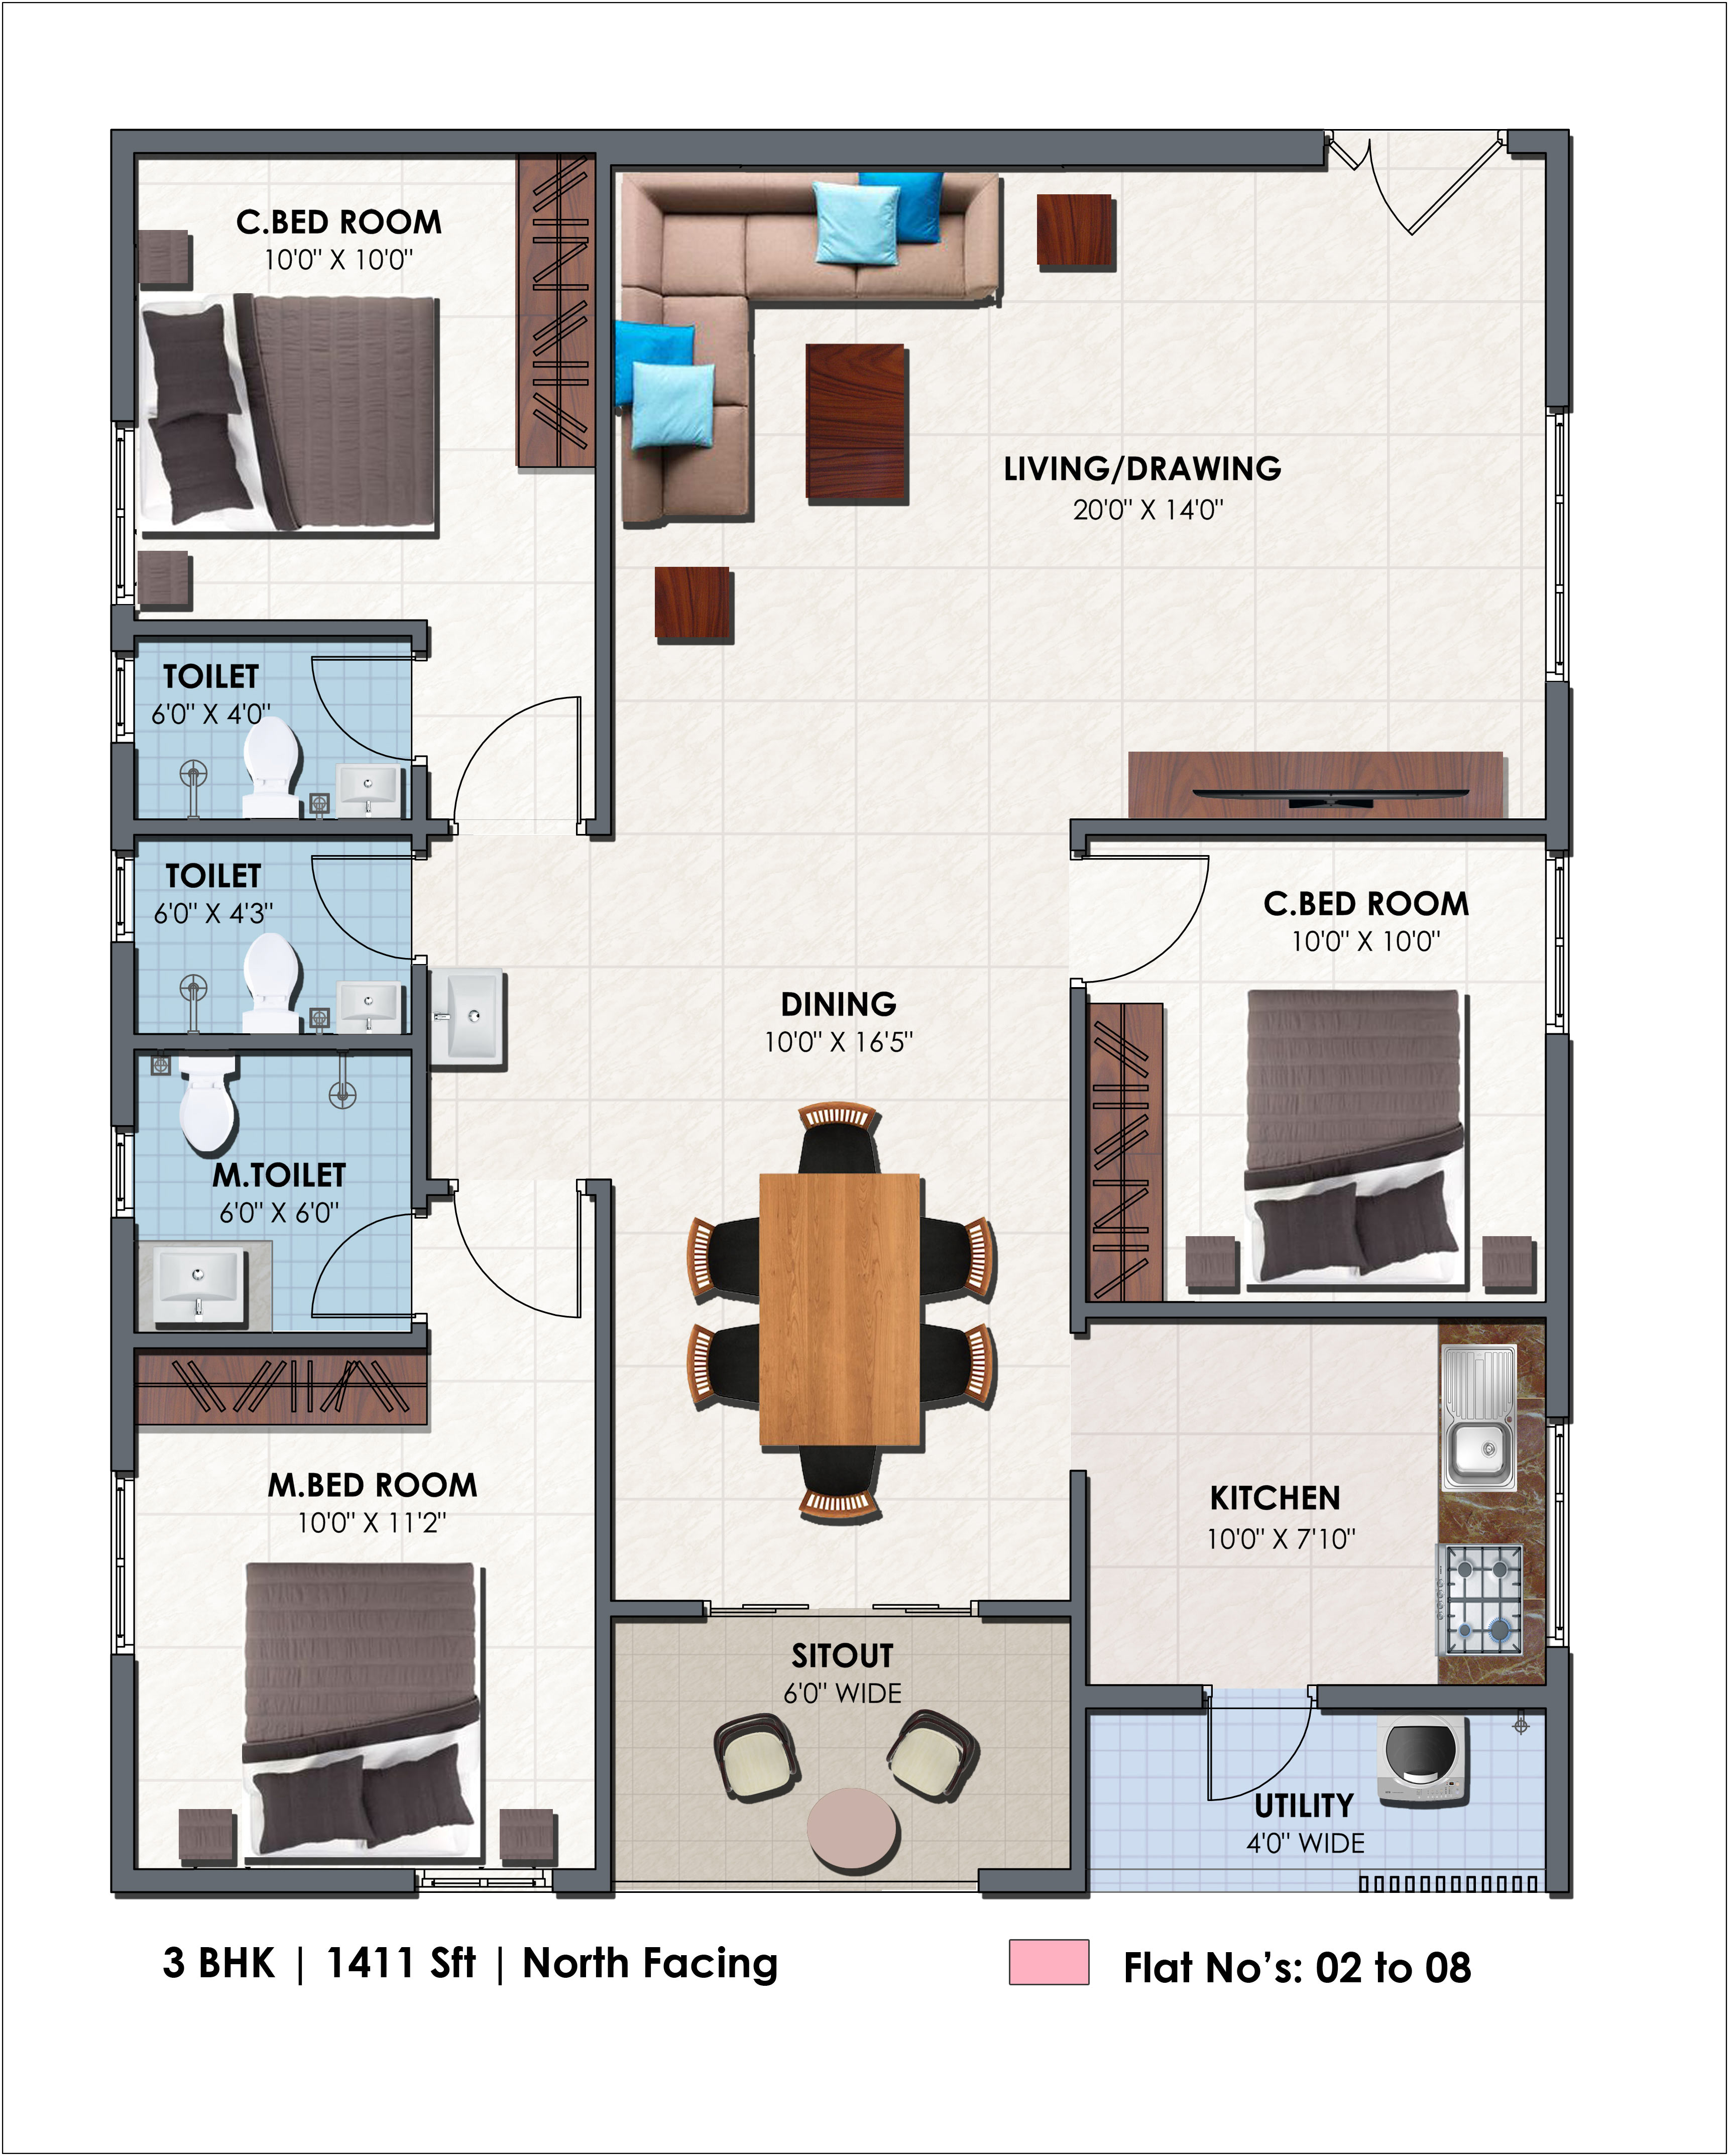window: (1542, 401, 1577, 688), (1544, 1413, 1576, 1653), (106, 1468, 141, 1660), (1544, 852, 1576, 1044), (108, 416, 138, 605), (411, 1865, 556, 1898), (104, 1122, 139, 1221), (108, 644, 139, 750), (108, 845, 141, 944)
